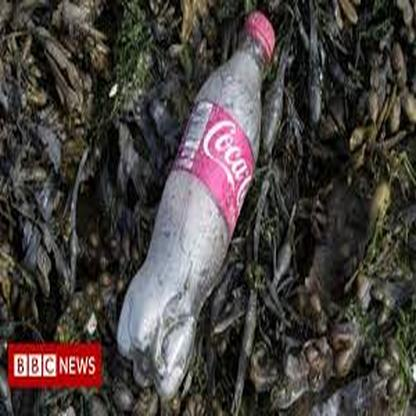plastic bottle: (117, 11, 276, 395)
